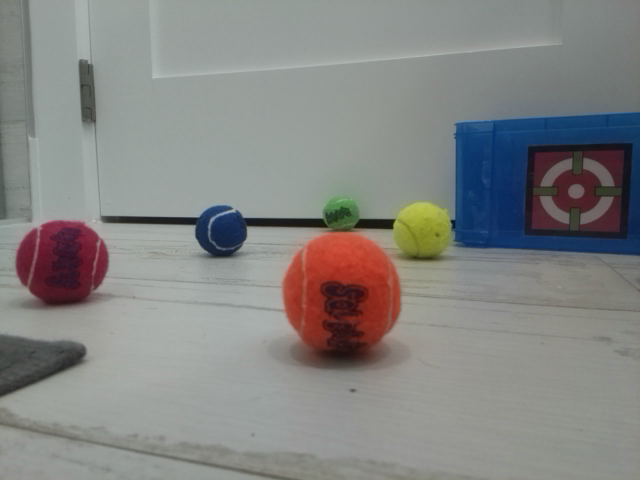blue-ball: (195, 204, 249, 258)
drop-bin: (524, 143, 633, 240)
green-ball: (322, 195, 361, 232)
orange-ball: (282, 229, 403, 356)
red-ball: (14, 219, 110, 305)
yellow-ball: (392, 201, 452, 261)
